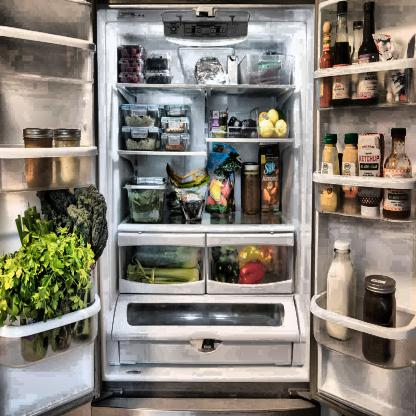lemon: (260, 121, 274, 137), (276, 120, 288, 137), (267, 109, 278, 122)
parsley: (4, 241, 76, 319)
red_bell_pepper: (239, 261, 264, 283)
